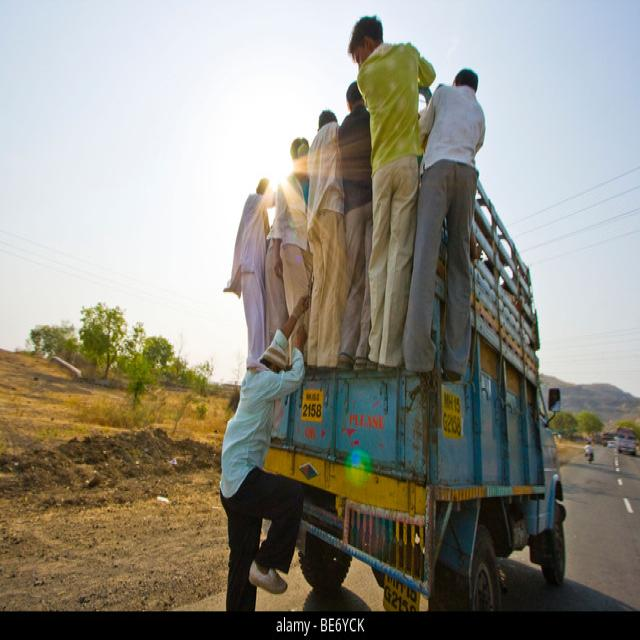goods: (265, 16, 478, 380), (246, 285, 261, 366)
truck: (265, 186, 565, 609)
